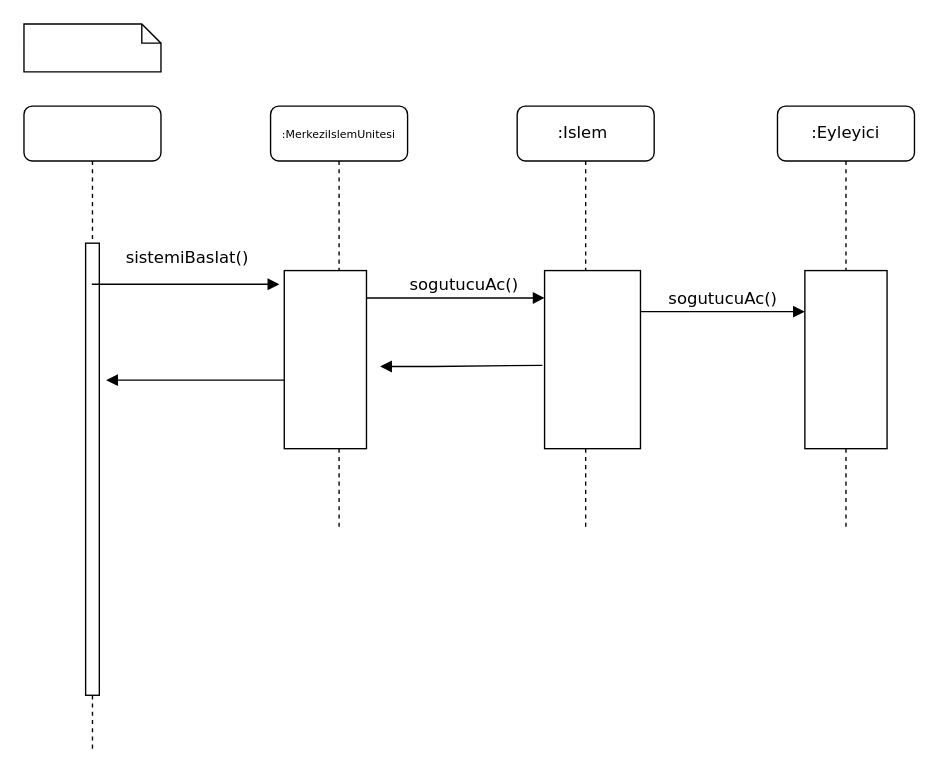
Some shapes in this 938 by 774 pixel diagram are drawn without their labels. Here are the shapes that lost their labels. From the top down, the box of each, then its label:
(23, 23, 161, 72): Soğutucu Çalıştırılması
(23, 105, 161, 750): :AkilliCihaz
